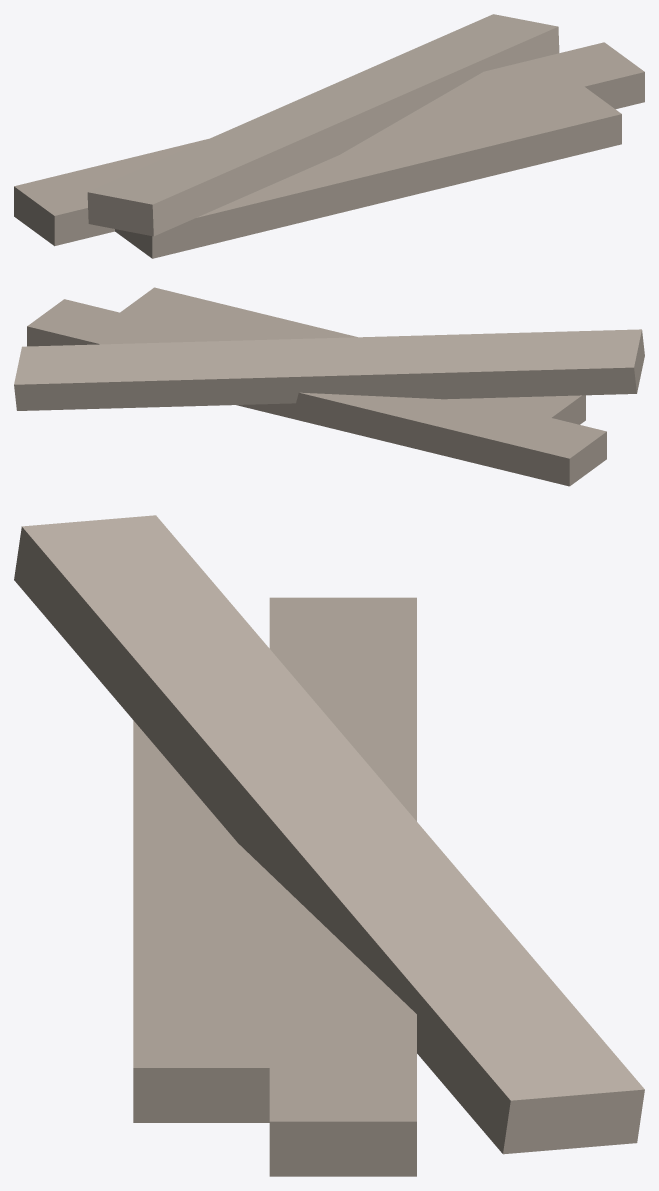
File: crude_timberPile.fbx
3 renders of one model, top to bottom at view 1: azimuth 30°, elevation 25°; view 2: azimuth 150°, elevation 25°; view 3: azimuth 270°, elevation 25°, orthographic. The views are drawn at different scales.
Visible parts, largest first — view 1: timber:timber45, timber:timber46, timber:timber44; view 2: timber:timber45, timber:timber44, timber:timber46; view 3: timber:timber45, timber:timber44, timber:timber46.
Boxes of the visible parts, bbox=[...] form: timber:timber45: bbox=[87, 14, 559, 236]; timber:timber46: bbox=[115, 85, 621, 258]; timber:timber44: bbox=[14, 42, 644, 246]; timber:timber45: bbox=[14, 329, 644, 410]; timber:timber44: bbox=[27, 299, 606, 486]; timber:timber46: bbox=[120, 287, 585, 424]; timber:timber45: bbox=[14, 515, 644, 1154]; timber:timber44: bbox=[269, 597, 416, 1176]; timber:timber46: bbox=[133, 653, 280, 1122].
Size of the model in its own units: 94.41 by 13.71 by 48.05.
